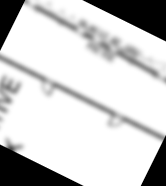door: (37, 75, 57, 97), (106, 110, 126, 131)
